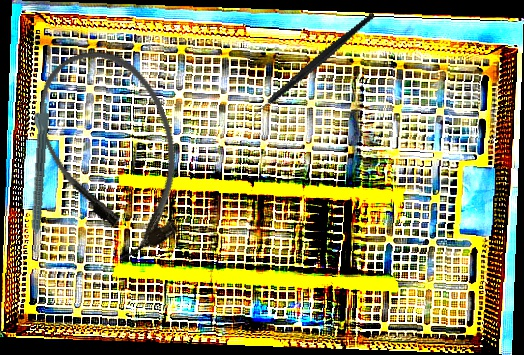Cannula: (20, 32, 209, 272)
Chopper: (229, 12, 397, 128)
Handpiece: (23, 102, 50, 252)
